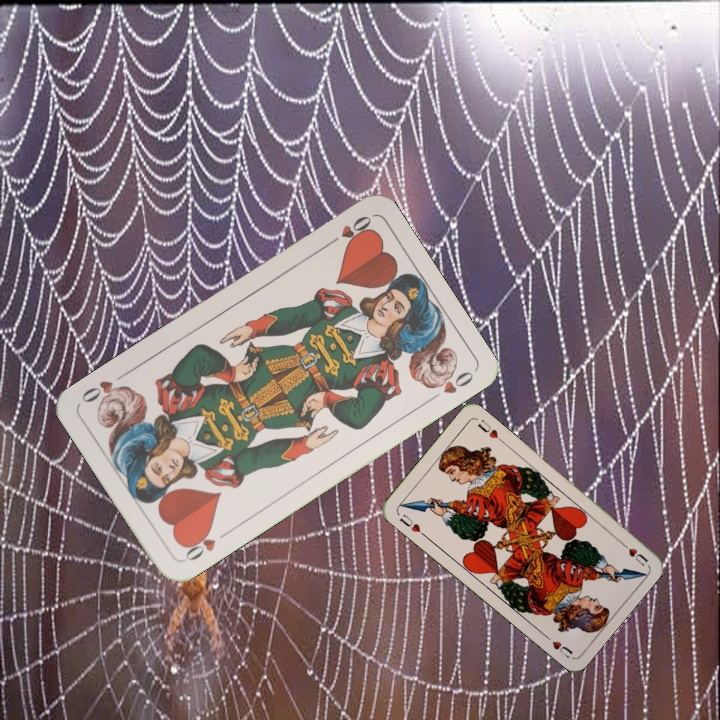HO: (321, 211, 375, 250), (179, 525, 232, 564)
HU: (616, 537, 650, 568), (395, 510, 428, 539)
